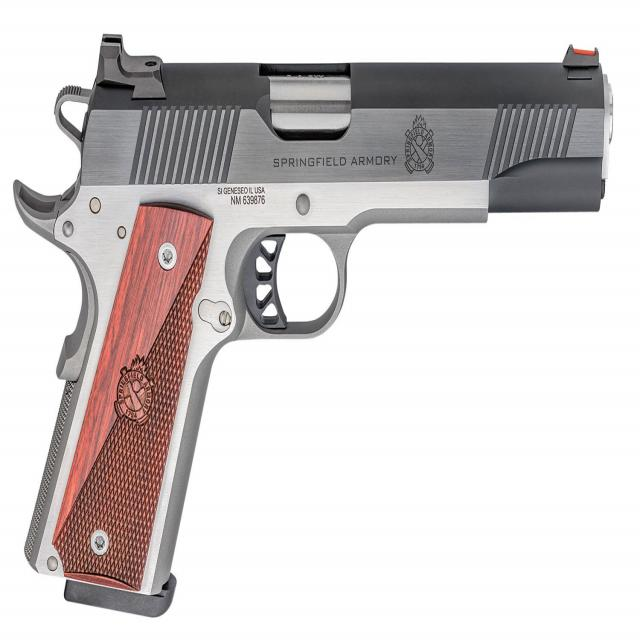gun: (11, 9, 609, 616)
